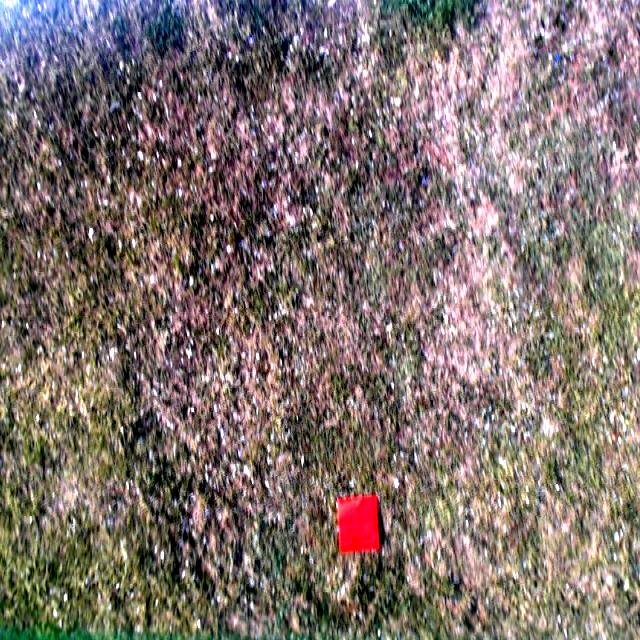red_square: (336, 493, 381, 552)
